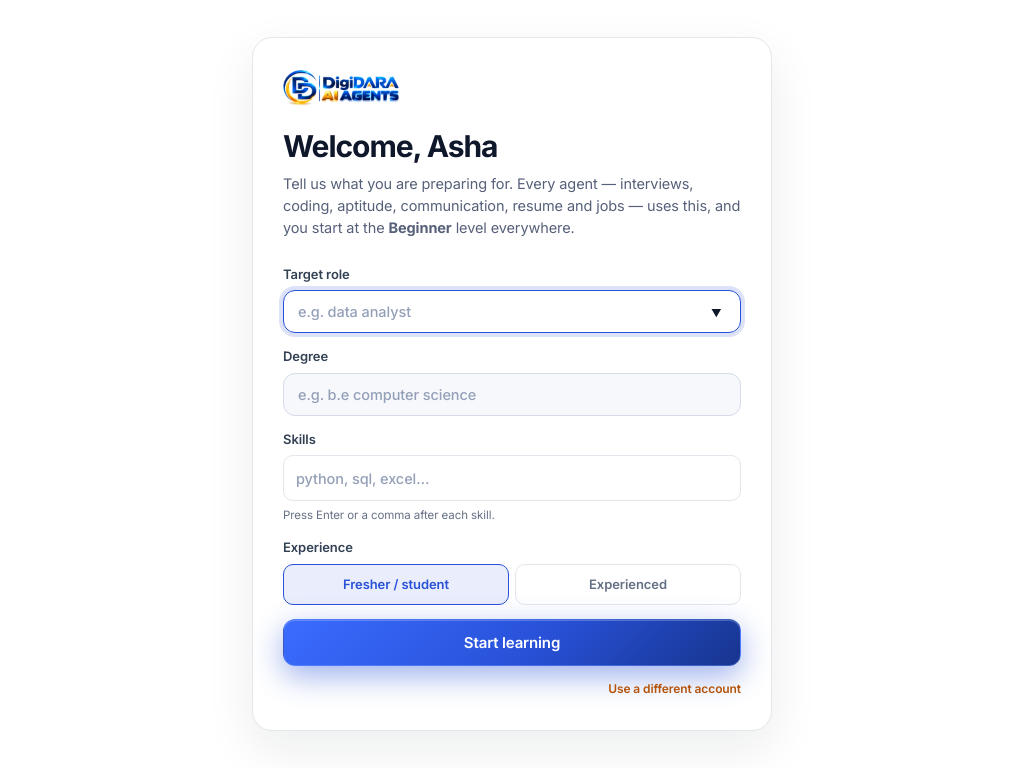
it: needs at least one skill
Type "Data Analyst" into the field with placeholder "e.g. data analyst" at (512, 312), box x1=283 y1=290 x2=741 y2=333
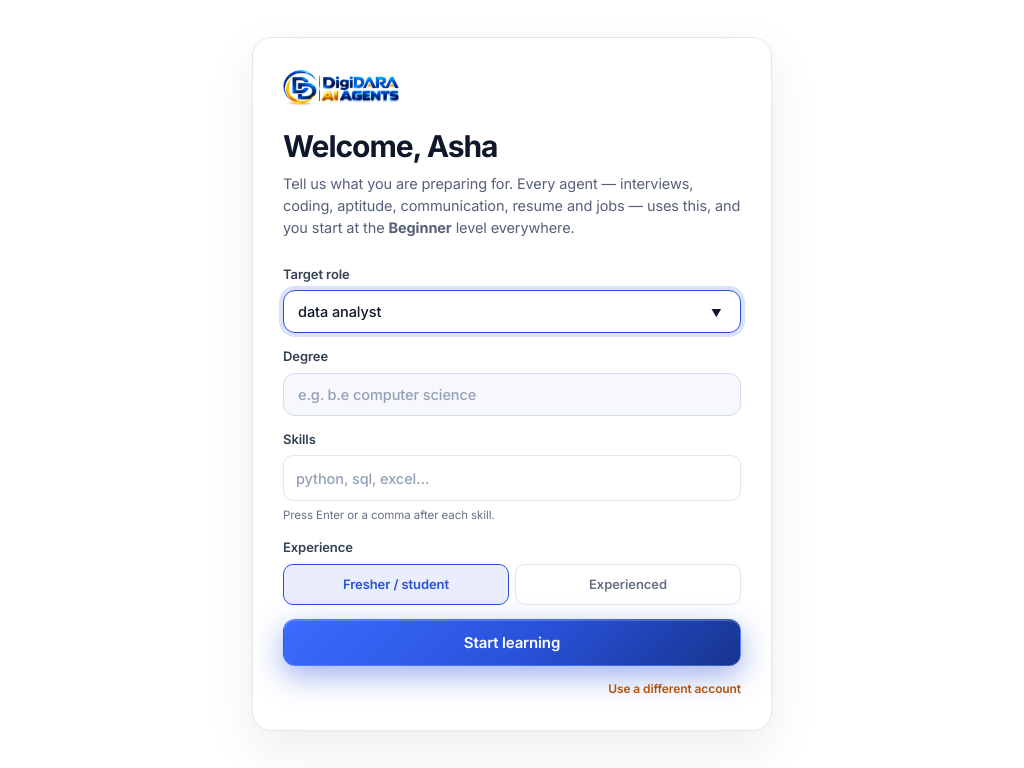
Click the button "Start learning" at (512, 643), box x1=283 y1=619 x2=741 y2=666
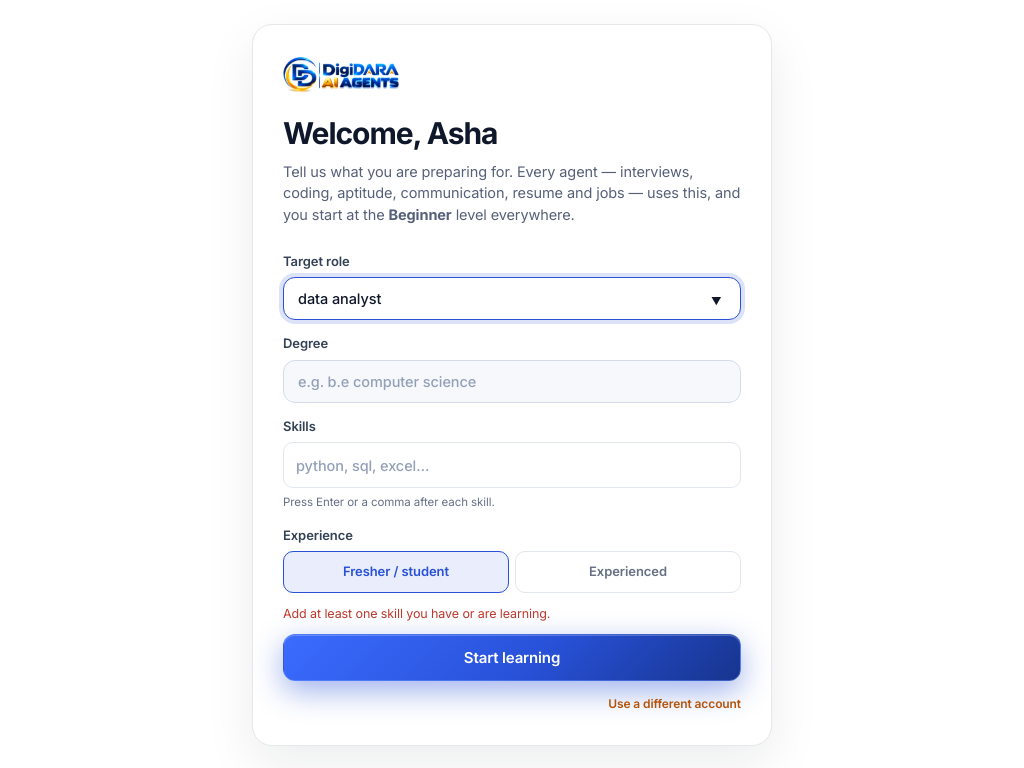
expect the message shows "Add at least one skill": met, box x1=283 y1=606 x2=550 y2=620
